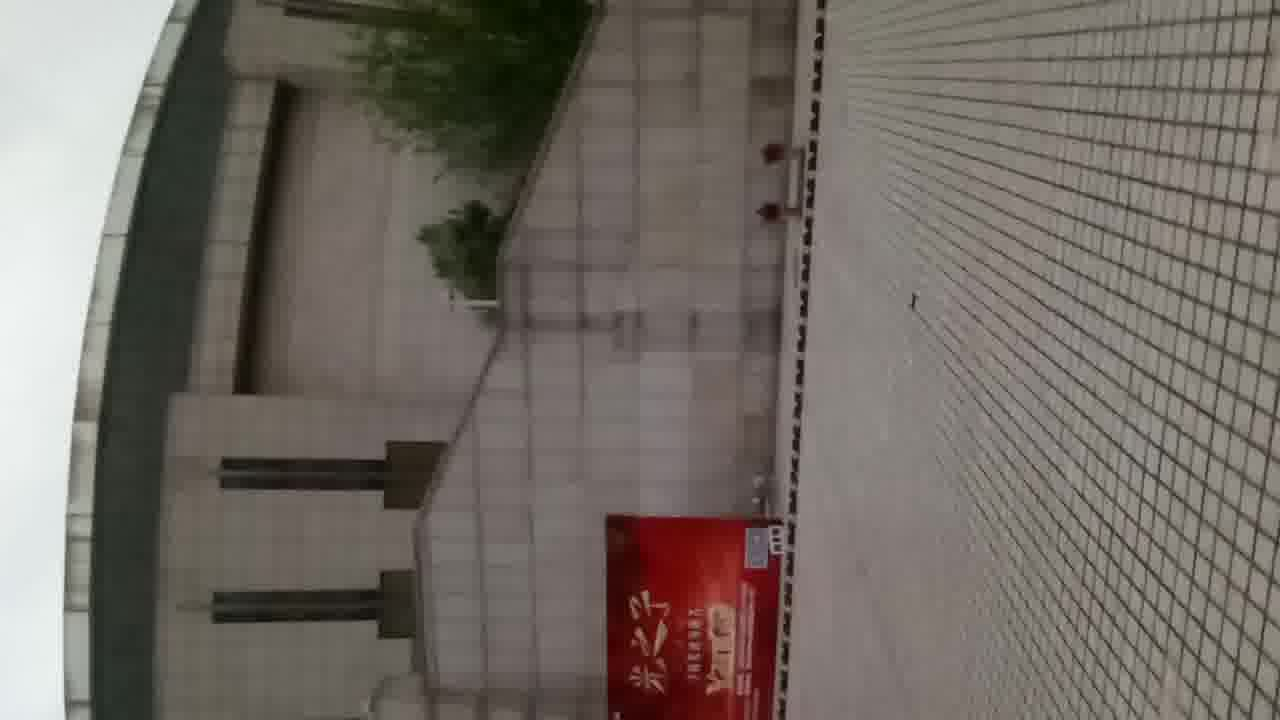zhongtiww: (54, 20, 823, 720)
